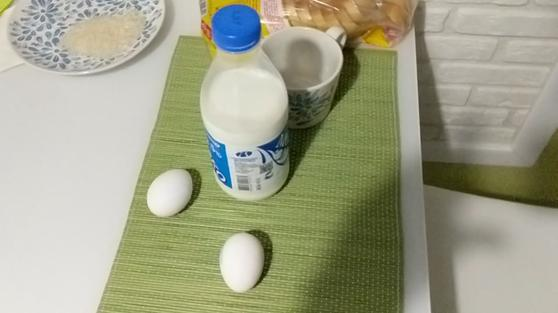egg: (198, 230, 281, 291), (138, 164, 197, 215)
milk: (192, 5, 305, 204)
rice: (55, 5, 150, 66)
